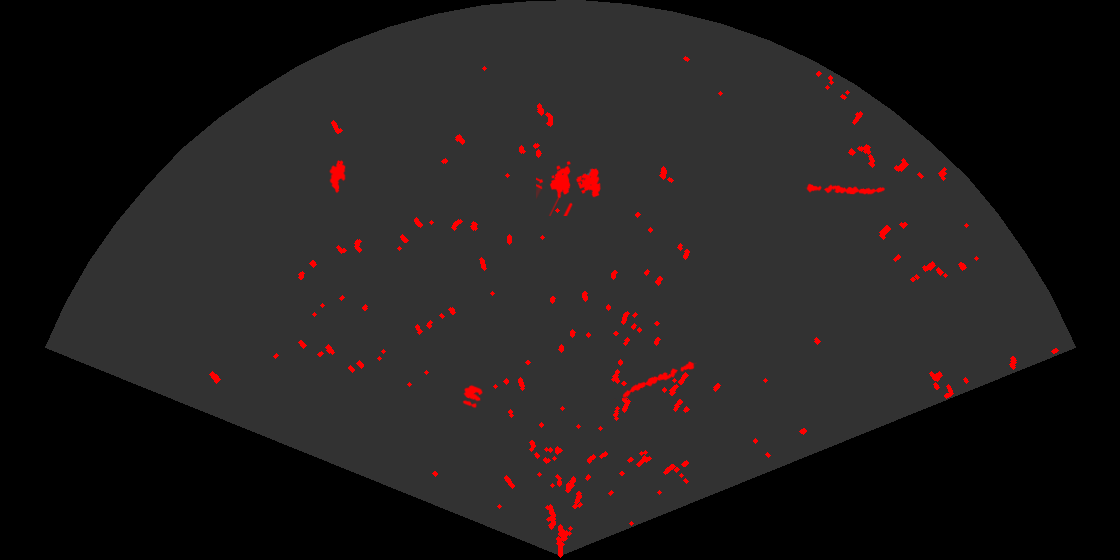AUV: (328, 158, 347, 195)
ball: (461, 383, 484, 410)
cage: (536, 160, 603, 216)
chain: (613, 360, 697, 401), (804, 182, 885, 196)
